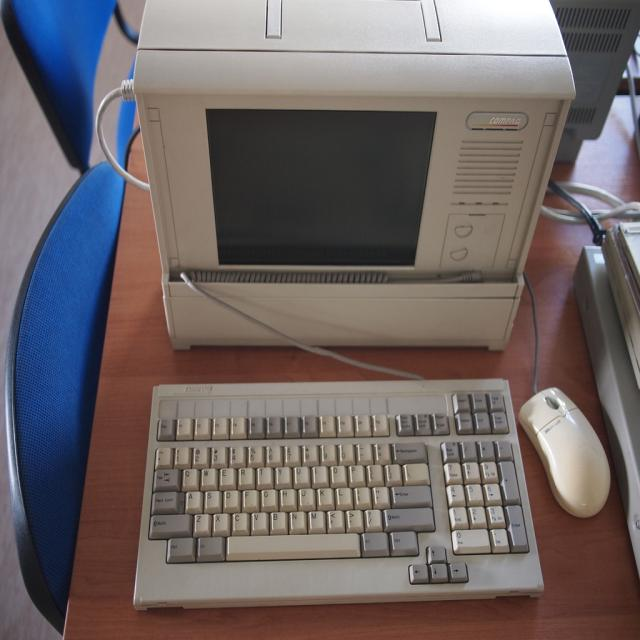Computer mouse: (518, 387, 612, 519)
